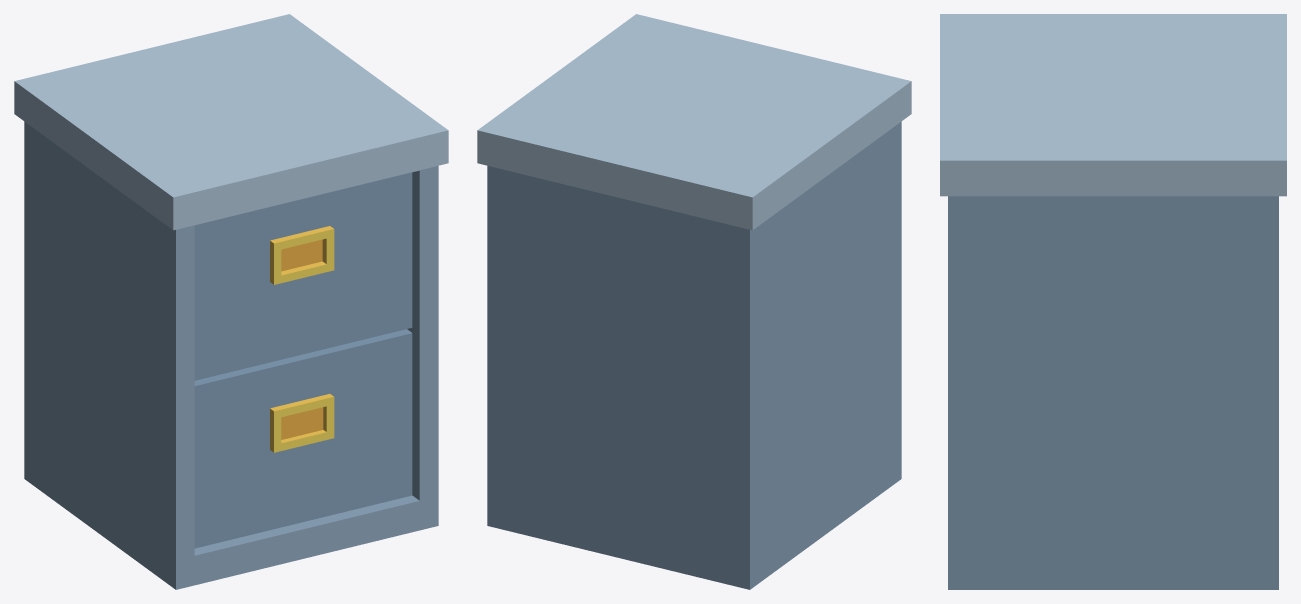
Rendered from drawer_furniture.fbx.
3 renders of one model, left to right at view 1: azimuth 30°, elevation 25°; view 2: azimuth 150°, elevation 25°; view 3: azimuth 270°, elevation 25°, orthographic. The views are drawn at different scales.
Visible parts, largest first — view 1: drawer_furniture; view 2: drawer_furniture; view 3: drawer_furniture.
Part boxes in pixels (<box>): drawer_furniture: <box>14,14,448,589</box>; drawer_furniture: <box>477,14,911,589</box>; drawer_furniture: <box>940,14,1286,589</box>.
Bounding box in the file's own units: 41.93 × 57.74 × 41.93.
